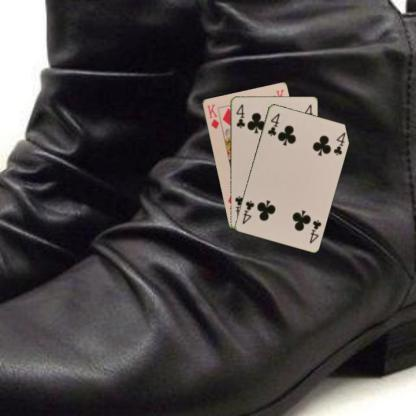4c: (264, 110, 280, 138), (307, 217, 322, 244), (234, 101, 245, 130)
Kd: (204, 102, 220, 130)
